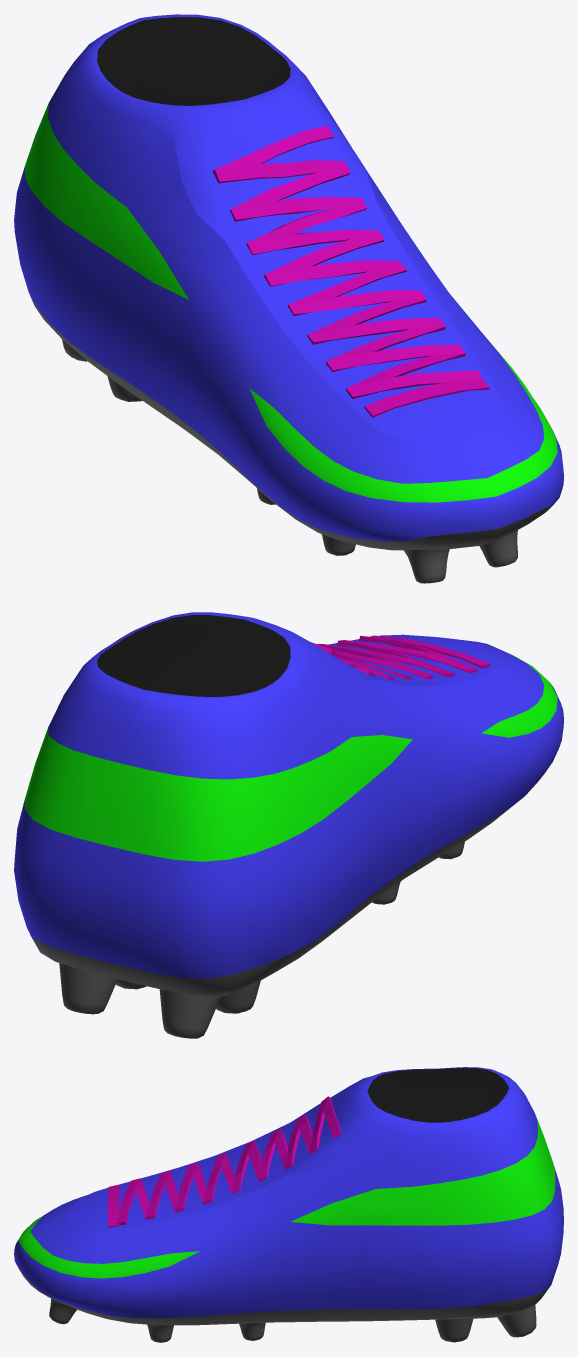
The model's file is Boots Blue.fbx.
The picture shows the model from 3 angles, top to bottom: view 1: azimuth 30°, elevation 25°; view 2: azimuth 150°, elevation 25°; view 3: azimuth 270°, elevation 25°; orthographic projection. The views are drawn at different scales.
Visible parts, largest first — view 1: Boots Blue; view 2: Boots Blue; view 3: Boots Blue.
Part boxes in pixels (box(x1,y1,x2,y2)): Boots Blue: box(14, 14, 563, 583); Boots Blue: box(14, 612, 563, 1038); Boots Blue: box(14, 1067, 563, 1342).
Size of the model in its own units: 41.54 by 48.39 by 103.
